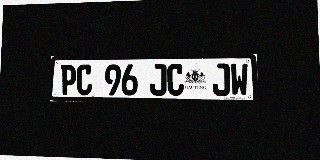6: (121, 64, 138, 95)
9: (105, 64, 121, 95)
C: (167, 64, 184, 96), (76, 64, 92, 95)
J: (212, 63, 230, 96), (150, 64, 166, 96)
P: (60, 65, 76, 95)
W: (230, 63, 248, 96)
